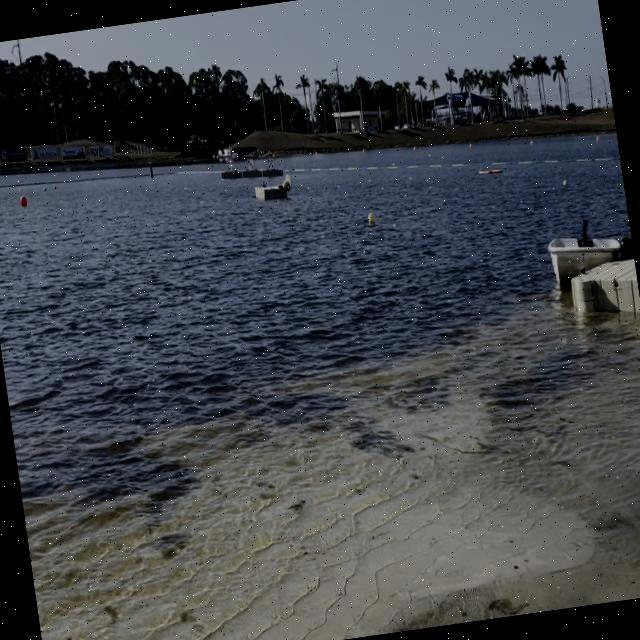buoy: (20, 195, 28, 208)
